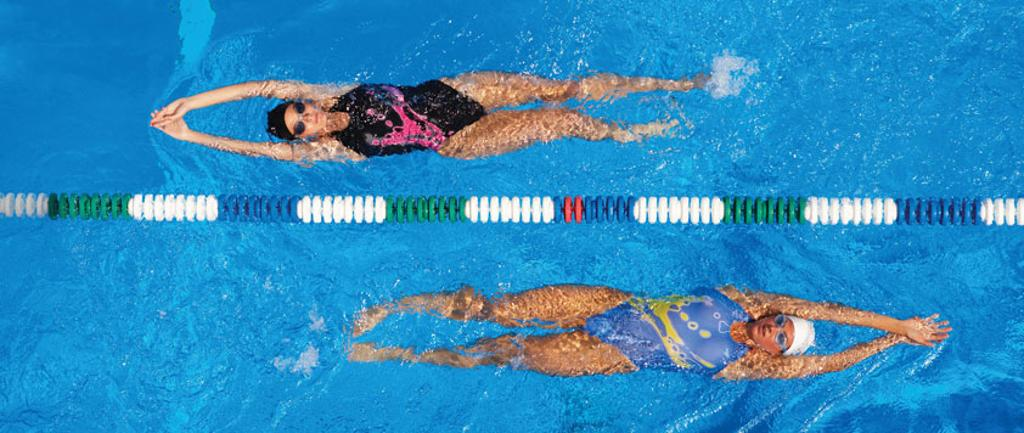face: (751, 313, 795, 354), (284, 101, 327, 137)
